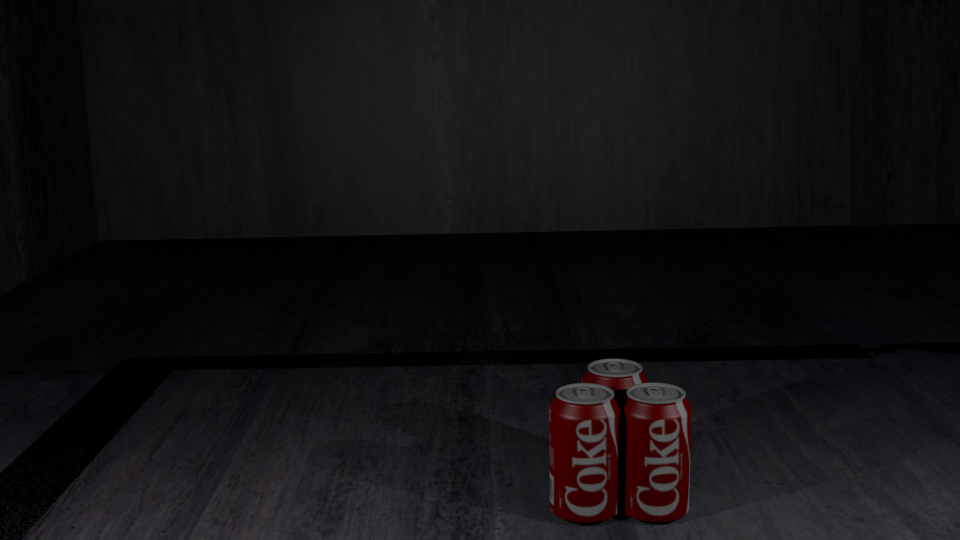cola_can: (620, 383, 691, 517), (550, 383, 619, 519), (582, 359, 647, 485)
